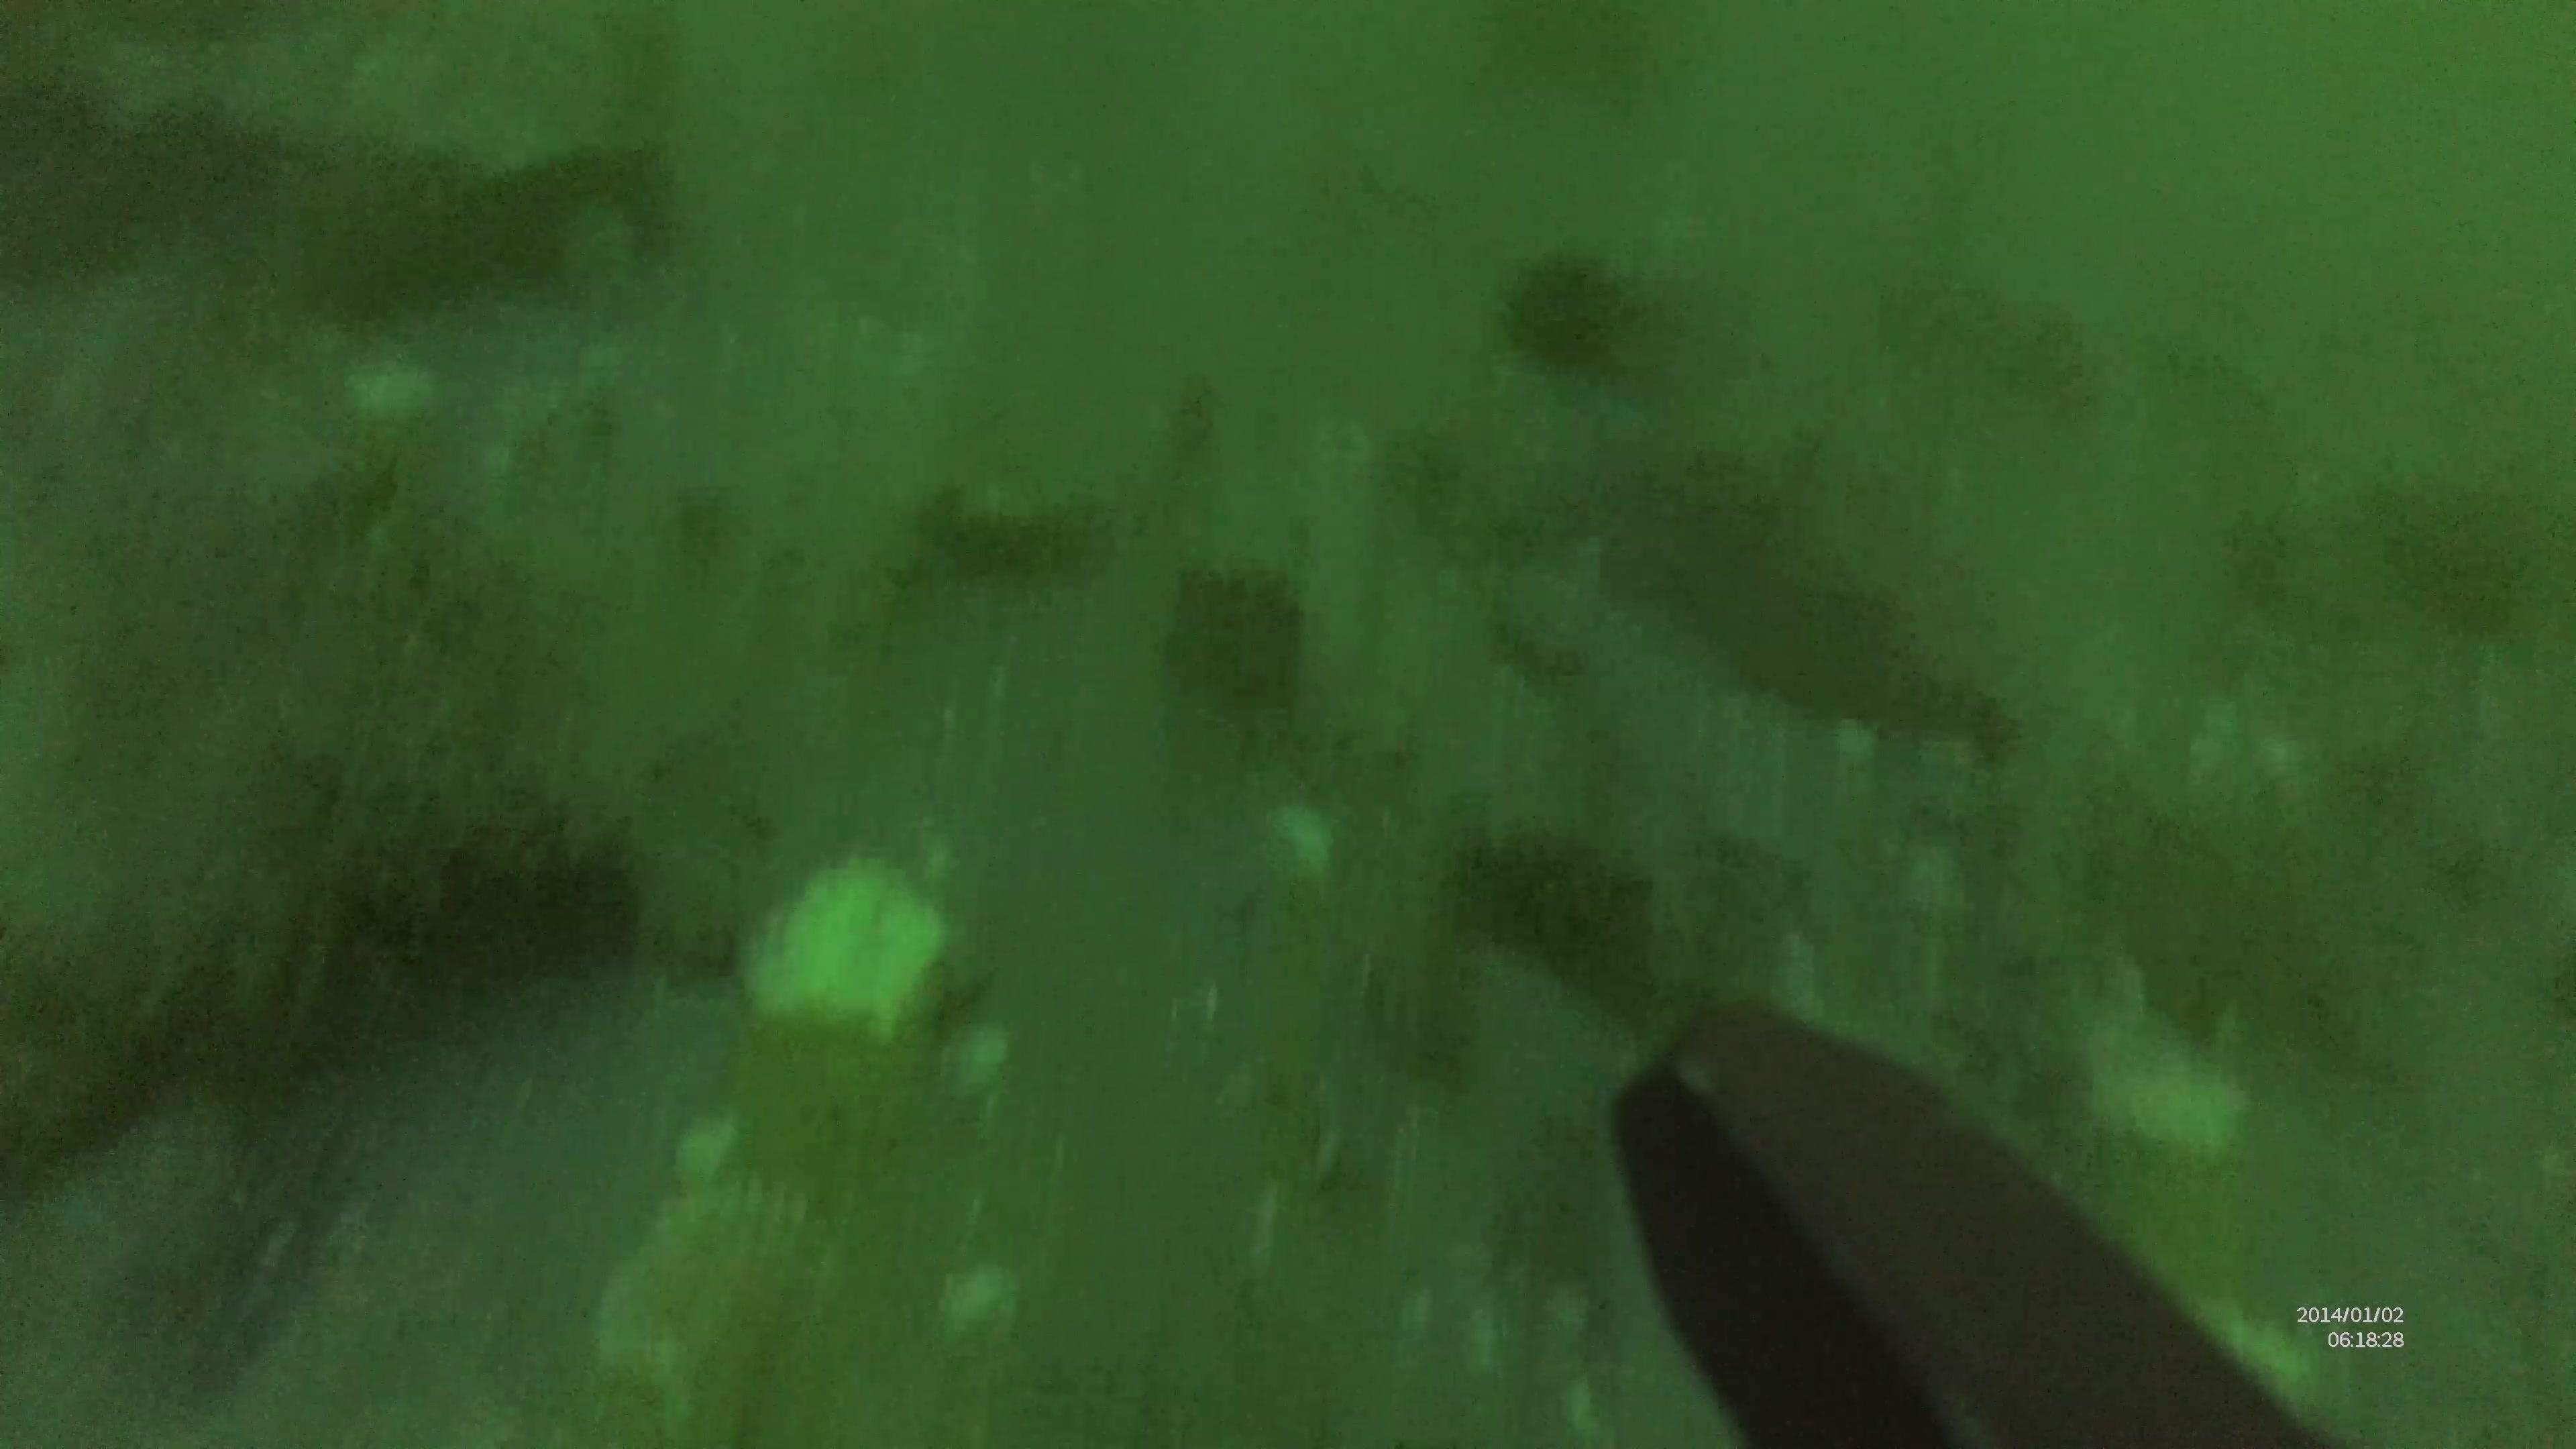echinus: (1465, 821, 1637, 994), (1507, 251, 1628, 366)
